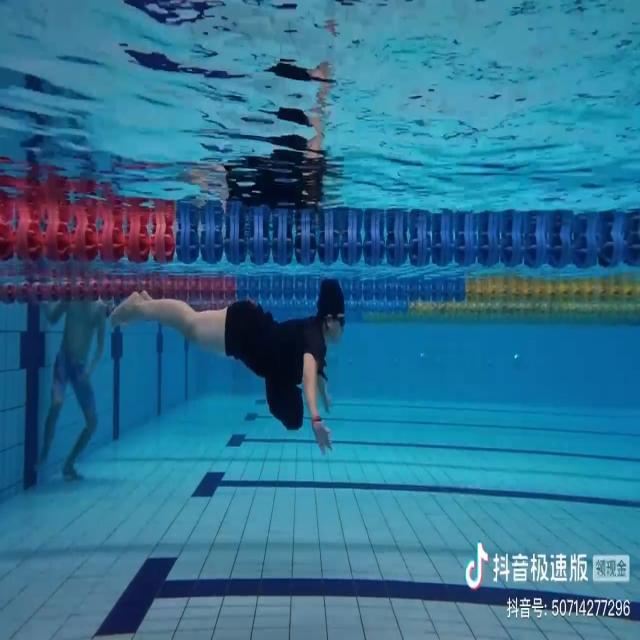Swimming: (114, 278, 346, 461), (33, 290, 109, 492)
